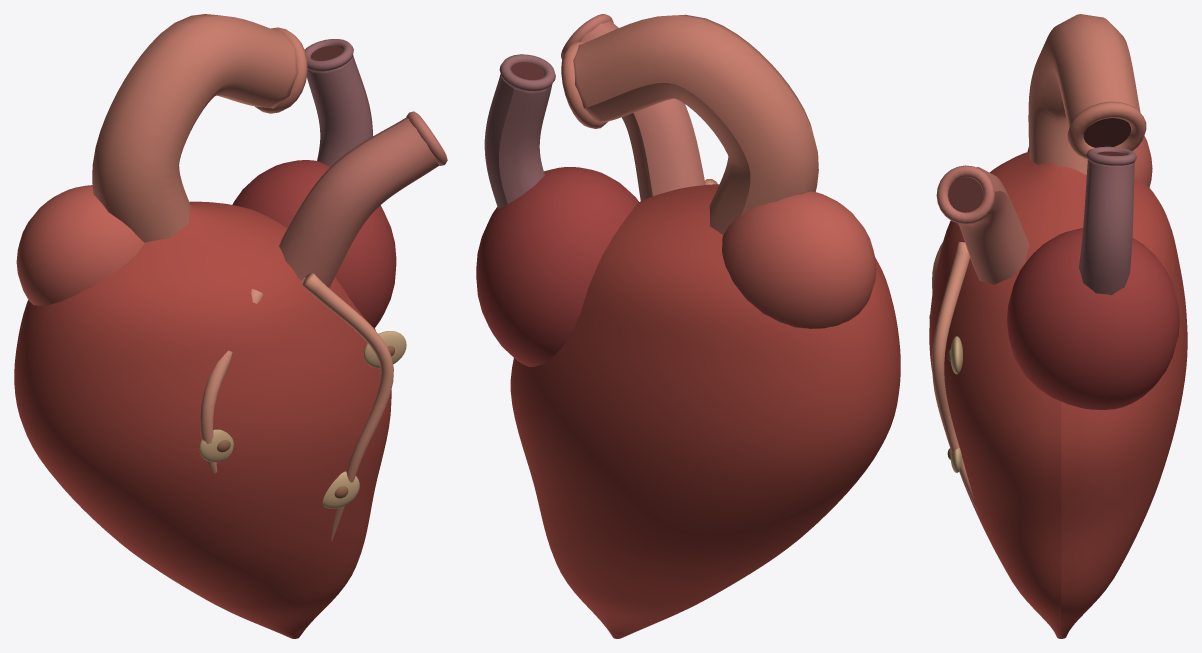
File: props_p6__p6_sick_heart.glb
3 renders of one model, left to right at view 1: azimuth 30°, elevation 25°; view 2: azimuth 150°, elevation 25°; view 3: azimuth 270°, elevation 25°, orthographic. The views are drawn at different scales.
Visible parts, largest first — view 1: asymmetric_ventricles, aortic_arch, pulmonary_stump, left_auricle, right_auricle, heart_surfaces (×2), vena_cava, aortic_arch_rim, vena_cava_rim, pulmonary_stump_rim; view 2: asymmetric_ventricles, aortic_arch, right_auricle, left_auricle, pulmonary_stump, vena_cava, aortic_arch_rim, vena_cava_rim; view 3: asymmetric_ventricles, right_auricle, aortic_arch, vena_cava, heart_surfaces (×3), pulmonary_stump, aortic_arch_rim, pulmonary_stump_rim, vena_cava_rim, left_auricle.
Part boxes in pixels (bbox=[...]): asymmetric_ventricles: bbox=[14, 201, 391, 638]; aortic_arch: bbox=[92, 14, 297, 242]; pulmonary_stump: bbox=[279, 117, 439, 287]; left_auricle: bbox=[16, 185, 144, 305]; right_auricle: bbox=[232, 160, 396, 328]; heart_surfaces (×2): bbox=[199, 273, 406, 541]; vena_cava: bbox=[307, 55, 372, 166]; aortic_arch_rim: bbox=[255, 27, 307, 113]; vena_cava_rim: bbox=[305, 39, 353, 71]; pulmonary_stump_rim: bbox=[406, 111, 447, 165]; asymmetric_ventricles: bbox=[510, 184, 900, 638]; aortic_arch: bbox=[573, 14, 818, 235]; right_auricle: bbox=[476, 167, 638, 366]; left_auricle: bbox=[722, 191, 876, 328]; pulmonary_stump: bbox=[581, 21, 705, 200]; vena_cava: bbox=[484, 74, 552, 208]; aortic_arch_rim: bbox=[561, 41, 608, 128]; vena_cava_rim: bbox=[499, 54, 555, 91]; asymmetric_ventricles: bbox=[929, 152, 1187, 638]; right_auricle: bbox=[1007, 228, 1179, 409]; aortic_arch: bbox=[1028, 14, 1140, 174]; vena_cava: bbox=[1079, 160, 1134, 295]; heart_surfaces (×3): bbox=[932, 118, 1130, 511]; pulmonary_stump: bbox=[958, 167, 1029, 284]; aortic_arch_rim: bbox=[1067, 101, 1146, 159]; pulmonary_stump_rim: bbox=[936, 165, 994, 224]; vena_cava_rim: bbox=[1086, 146, 1136, 165]; left_auricle: bbox=[1027, 136, 1152, 187].
Bounding box in the file's own units: 0.0867 × 0.1406 × 0.0567.
